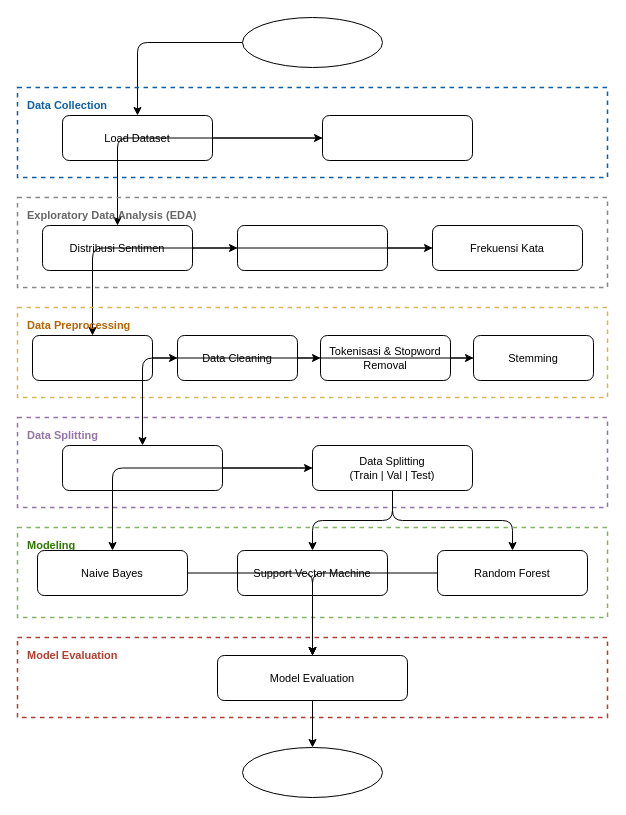
This 626x815 diagram has some shape labels left out. Each missing label, with the box of its shape:
Case Folding: (32, 334, 152, 380)
END: (242, 746, 382, 798)
Normalisasi Label: (322, 114, 472, 160)
START: (242, 16, 382, 68)
TF-IDF Vectorization: (62, 444, 222, 490)
WordCloud: (236, 224, 388, 270)
